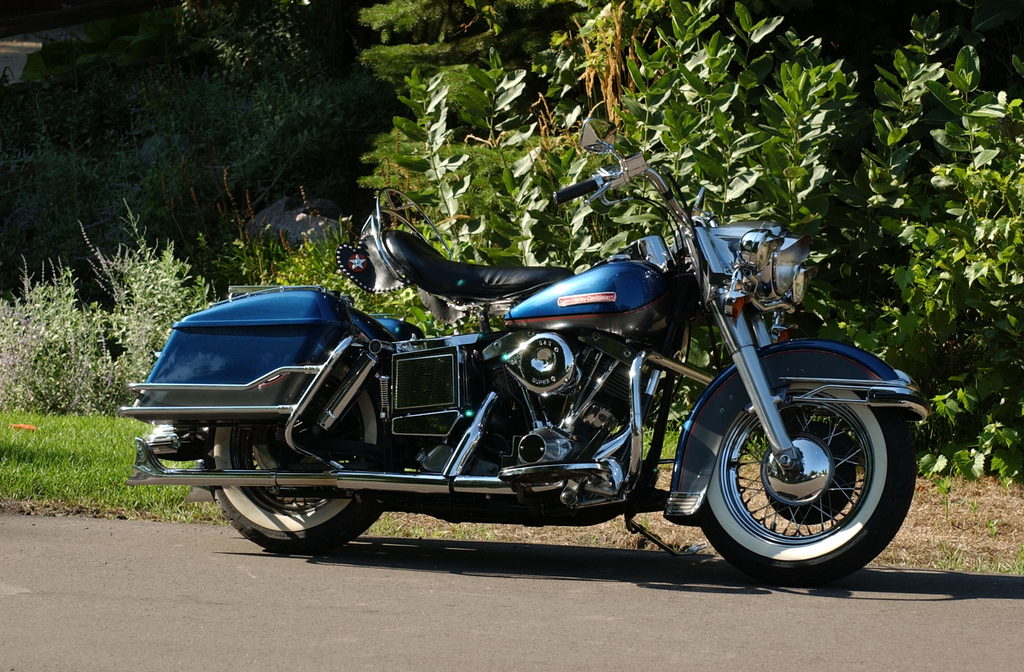Motorcycle: (114, 118, 930, 587)
